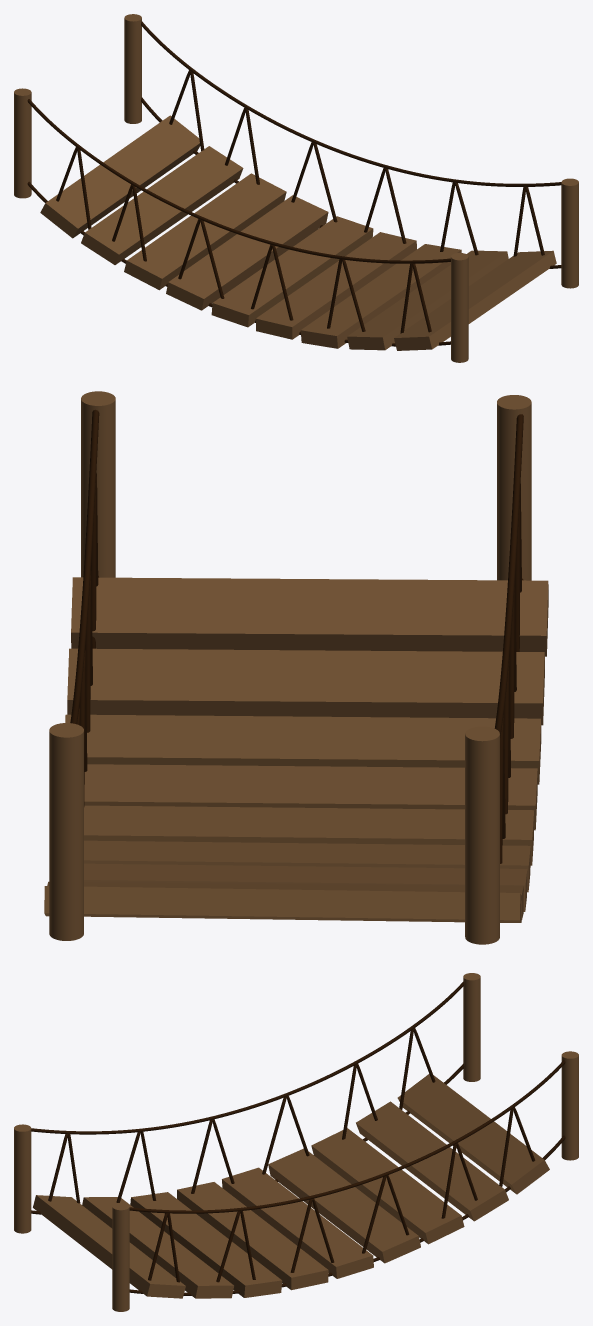
Rendered from bridge2.fbx.
3 views of the same model, one above another, from view 1: azimuth 30°, elevation 25°; view 2: azimuth 150°, elevation 25°; view 3: azimuth 270°, elevation 25° (orthographic). The views are drawn at different scales.
Visible parts, largest first — view 1: Cube.823, Cube.824, Cube.826, Cube.825, Cube.827, Cube.828, Cube.829, Cube.831, Cube.830, NurbsPath.006, NurbsPath.005, Cylinder.052 (+5 smaller); view 2: Cube.831, Cube.830, Cube.829, Cube.828, Cube.827, Cube.823, Cube.826, Cube.825, Cylinder.045, Cylinder.046, Cylinder.051, Cylinder.052 (+5 smaller); view 3: Cube.823, Cube.824, Cube.826, Cube.825, Cube.827, Cube.828, Cube.829, Cube.831, Cube.830, NurbsPath.005, NurbsPath.006, Cylinder.052 (+5 smaller).
Part boxes in pixels (x1,y1,x2,y2): Cube.823: (40, 115, 200, 238); Cube.824: (81, 146, 243, 264); Cube.826: (166, 195, 328, 310); Cube.825: (124, 173, 286, 290); Cube.827: (211, 216, 373, 327); Cube.828: (255, 232, 416, 339); Cube.829: (300, 244, 461, 348); Cube.831: (394, 250, 556, 350); Cube.830: (347, 250, 508, 350); NurbsPath.006: (169, 70, 544, 256); NurbsPath.005: (56, 147, 431, 333); Cylinder.052: (561, 178, 578, 288); Cube.831: (71, 577, 548, 656); Cube.830: (67, 648, 544, 725); Cube.829: (65, 714, 541, 784); Cube.828: (84, 764, 537, 830); Cube.827: (84, 805, 534, 865); Cube.823: (44, 886, 521, 922); Cube.826: (84, 840, 530, 892); Cube.825: (84, 863, 527, 911); Cylinder.045: (465, 726, 499, 944); Cylinder.046: (49, 723, 83, 940); Cylinder.051: (497, 395, 531, 580); Cylinder.052: (81, 391, 115, 577); Cube.823: (397, 1074, 549, 1194); Cube.824: (356, 1101, 508, 1221); Cube.826: (268, 1148, 420, 1263); Cube.825: (311, 1128, 464, 1244); Cube.827: (222, 1167, 373, 1278); Cube.828: (177, 1182, 328, 1290); Cube.829: (130, 1192, 282, 1297); Cube.831: (33, 1195, 185, 1298); Cube.830: (82, 1197, 233, 1298); NurbsPath.005: (48, 1028, 435, 1203); NurbsPath.006: (148, 1107, 535, 1282); Cylinder.052: (112, 1203, 129, 1311).
Bounding box in the file's own units: 583 × 244 × 746.
